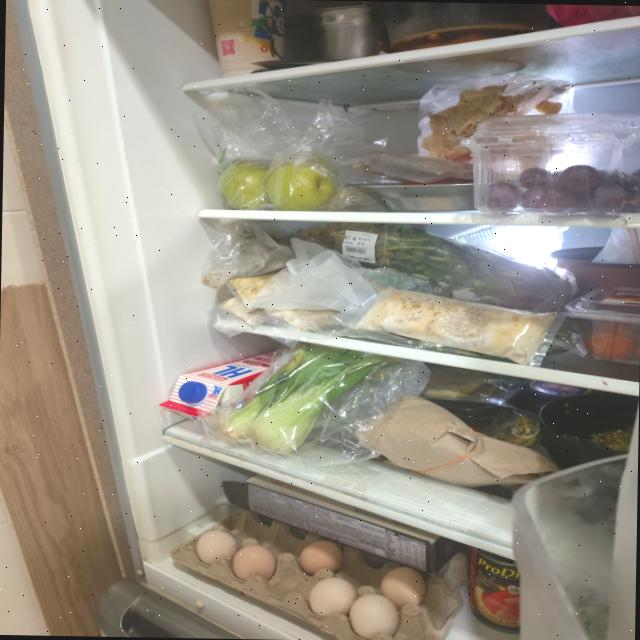apple: (220, 156, 340, 212)
egg: (167, 507, 469, 640)
grape: (481, 161, 640, 215)
leafy_greens: (297, 220, 574, 314)
pakchoy: (230, 340, 399, 454)
tempeh: (353, 288, 560, 366), (220, 272, 342, 332)
